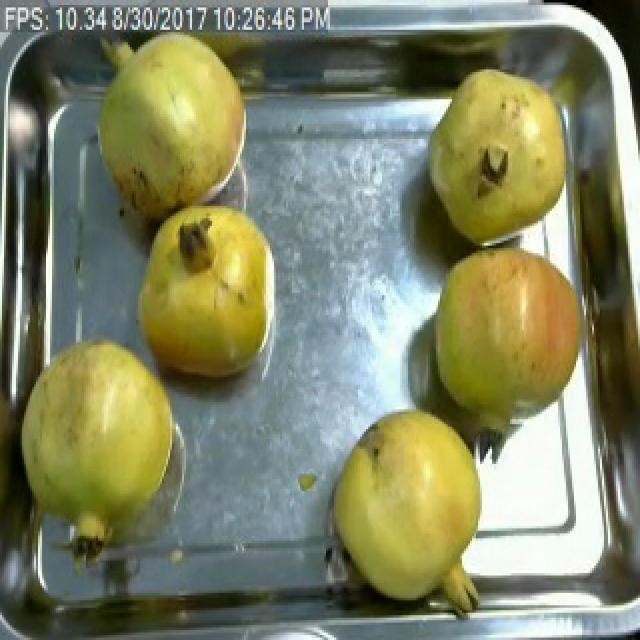fruit: (420, 228, 598, 449), (322, 397, 494, 610), (88, 18, 256, 228), (416, 52, 584, 258), (128, 196, 284, 392)
